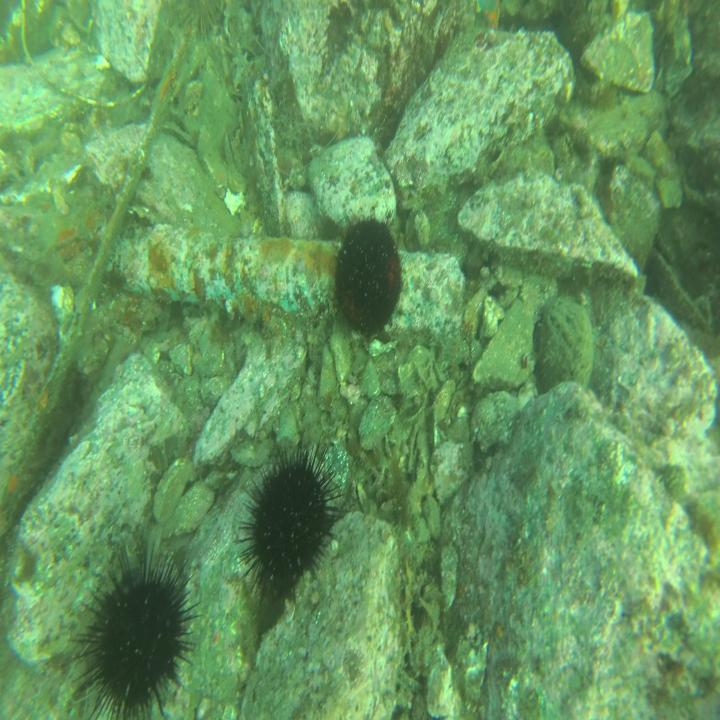echinus: (75, 539, 199, 720), (235, 445, 337, 604), (329, 208, 404, 344)
starfish: (472, 0, 504, 31)
